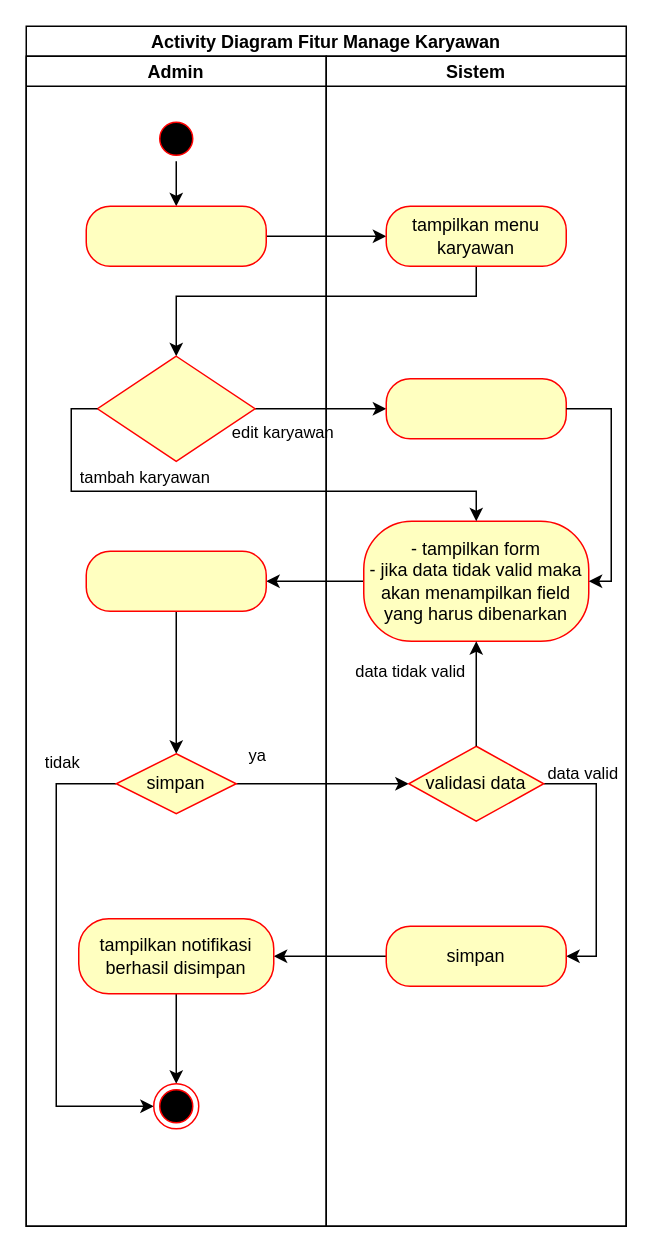
Some shapes in this 653 by 1253 pixel diagram are drawn without their labels. Here are the shapes that lost their labels. From the top down, the centre of each, then its label:
At point (175, 235): "masuk ke menu karyawan".
At point (175, 408): "tambah / edit karaywan".
At point (475, 408): "ambil data karyawan".
At point (175, 580): "isi form".
